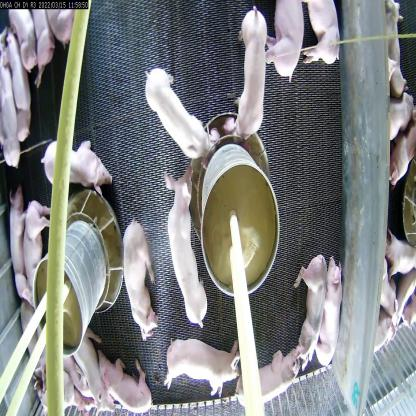Pig: (156, 154, 219, 335), (133, 63, 215, 161), (160, 326, 247, 404), (228, 0, 268, 143), (232, 343, 307, 416), (67, 310, 114, 415), (119, 210, 155, 346), (35, 131, 112, 192), (291, 244, 324, 382), (317, 258, 351, 383), (266, 0, 307, 93), (23, 188, 53, 315), (1, 30, 34, 142), (299, 0, 347, 77), (100, 353, 151, 414), (0, 57, 22, 185), (11, 186, 27, 290)
